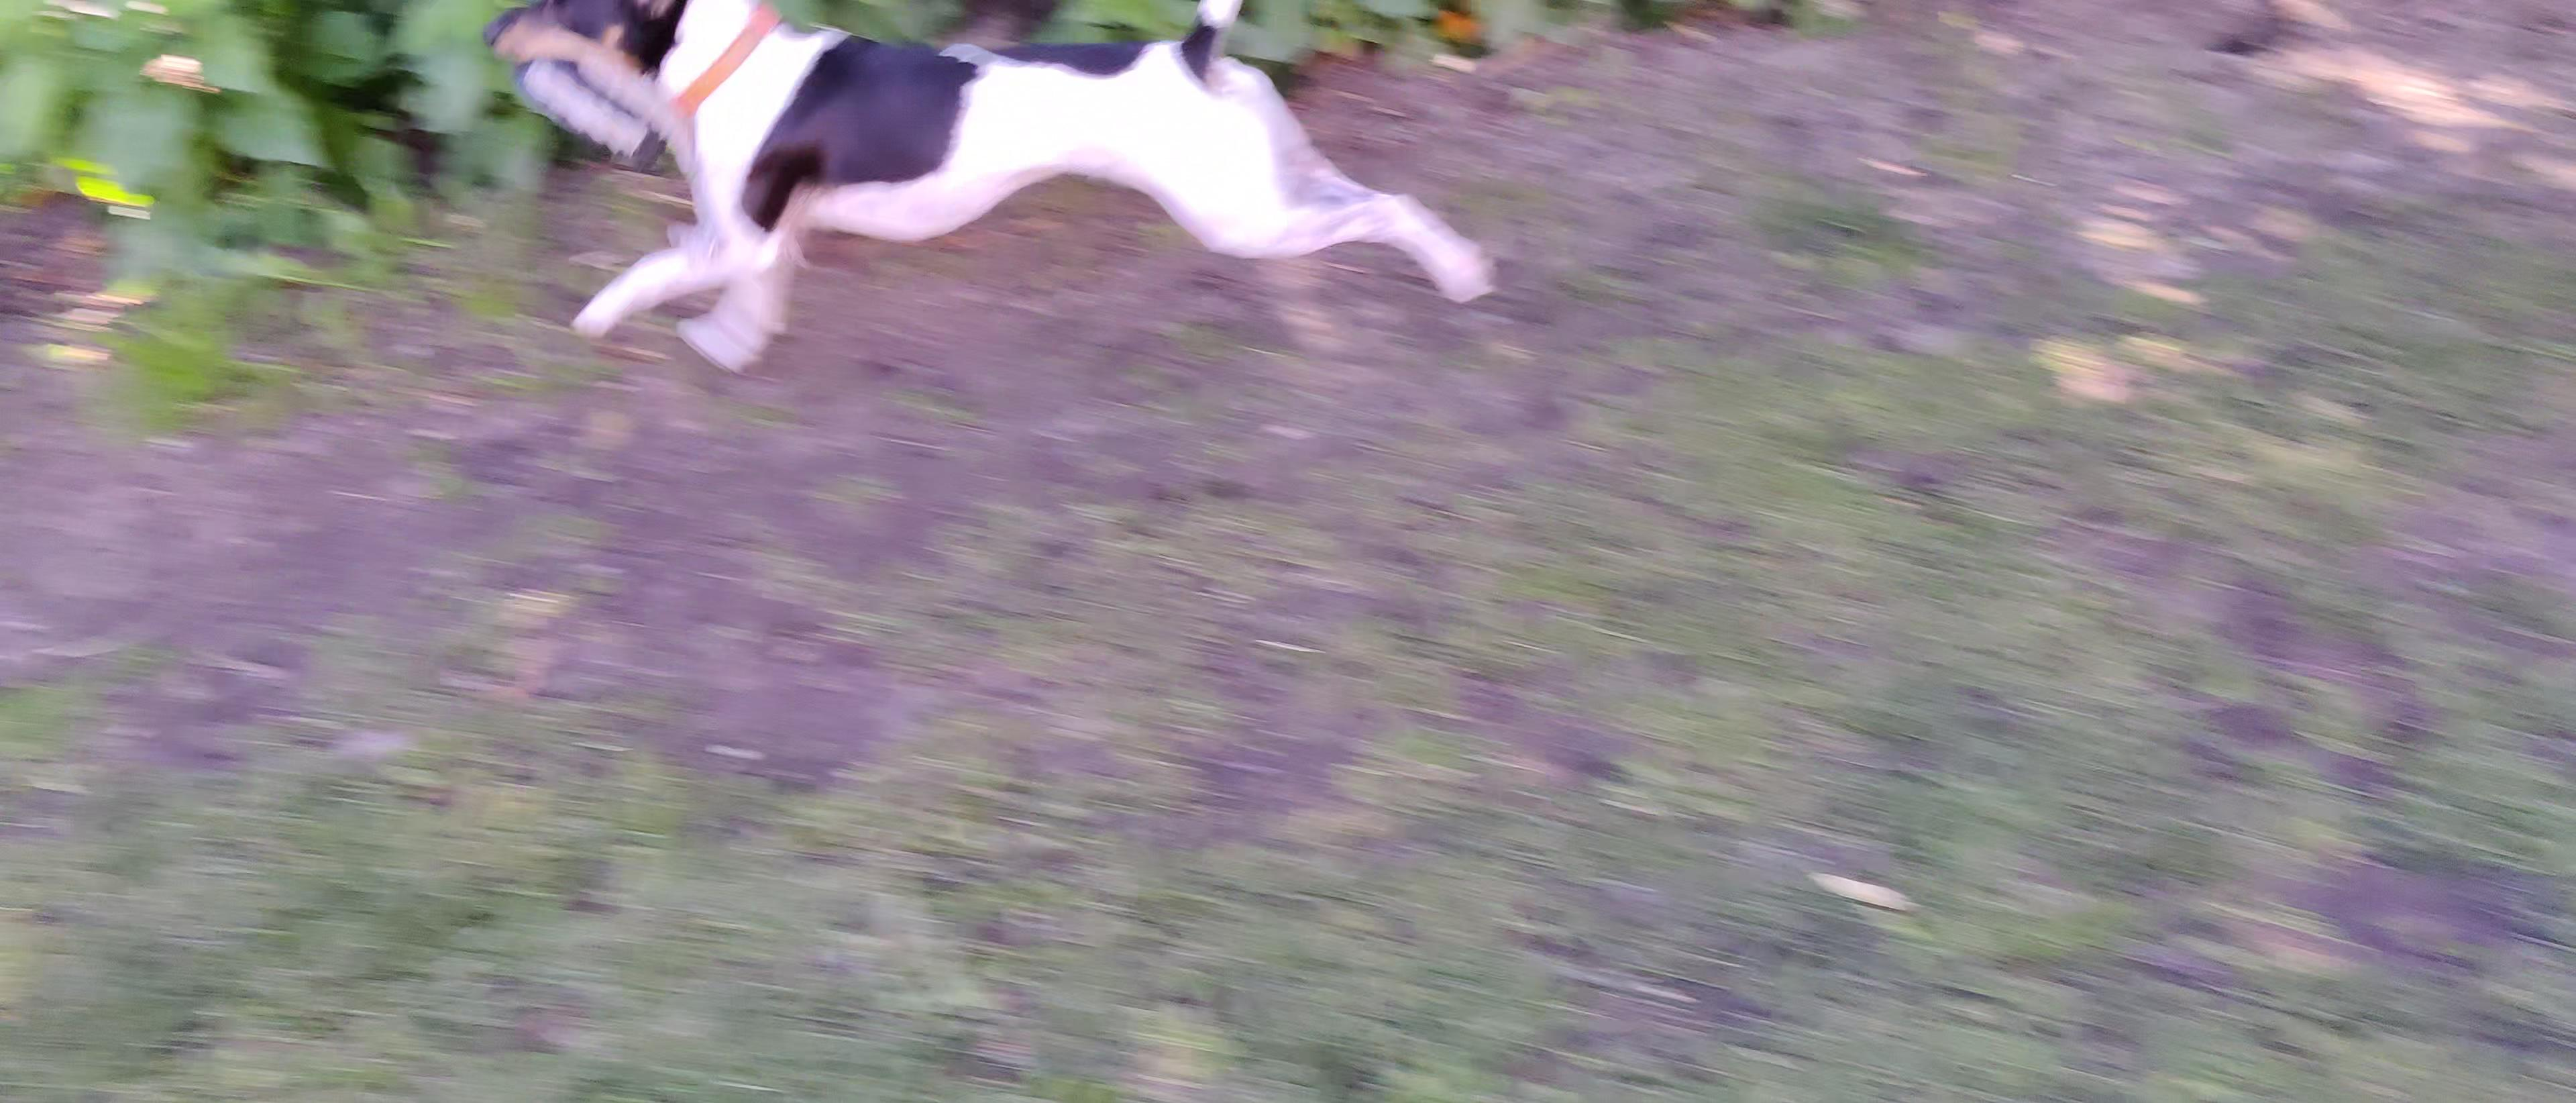Dog: (468, 0, 1513, 395)
